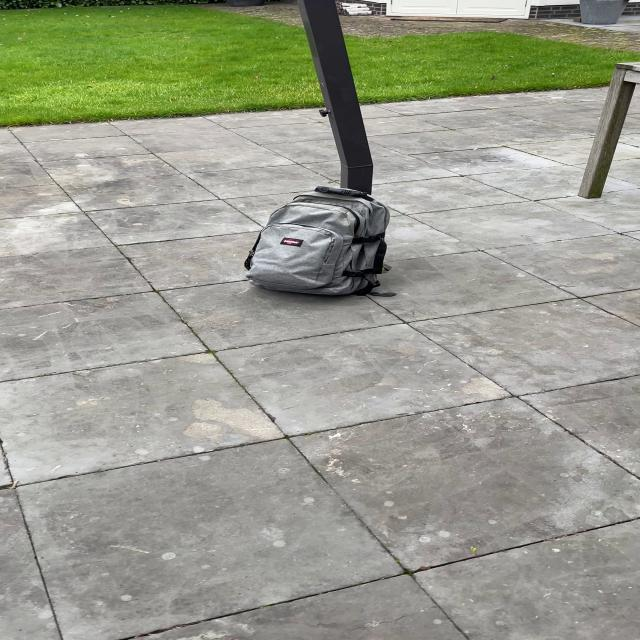backpack: (238, 183, 396, 301)
